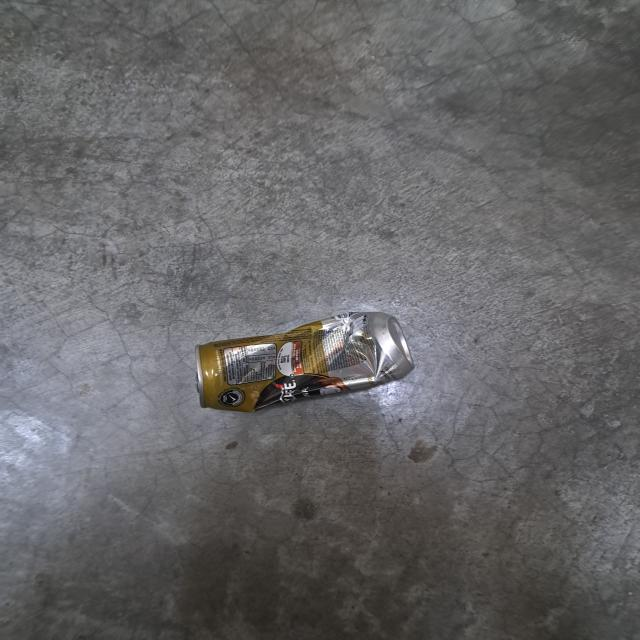can: (194, 310, 416, 412)
